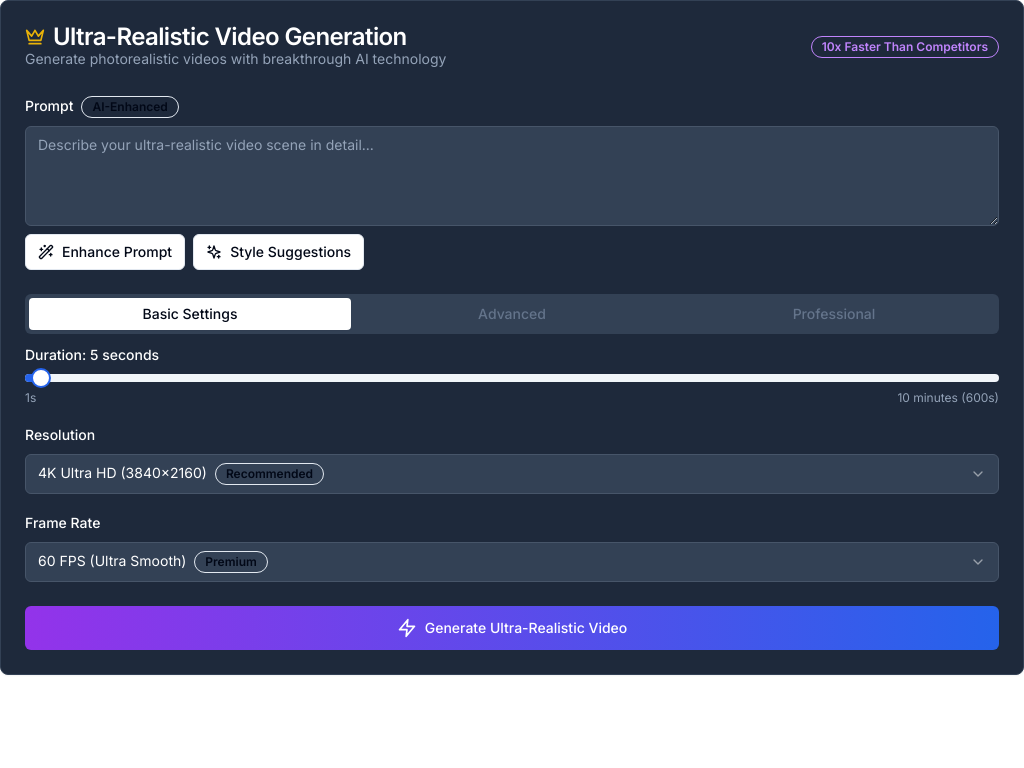
VideoGenerationPanel › switches to advanced tab and shows advanced settings
Click the tab "Advanced" at (512, 314), box [351, 298, 673, 330]
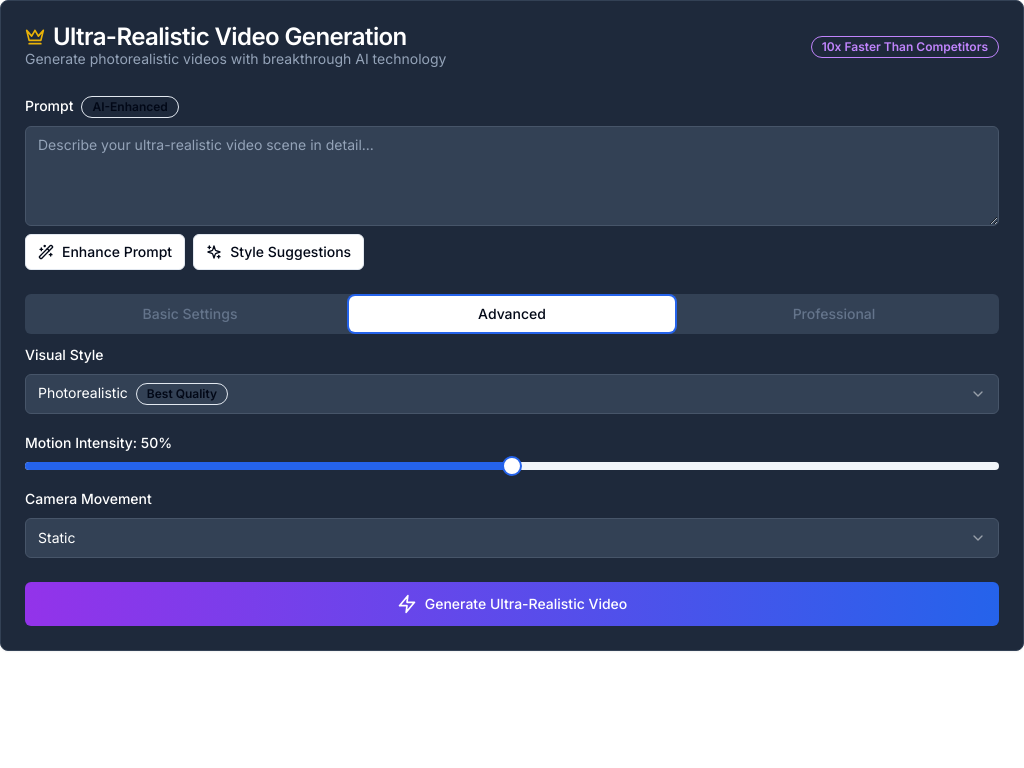
Expected: the text "Visual Style" is shown, [25, 346, 104, 363]
Expected: the text "Motion Intensity: 50%" is shown, [25, 434, 172, 451]
Expected: the text "Camera Movement" is shown, [25, 490, 152, 507]
